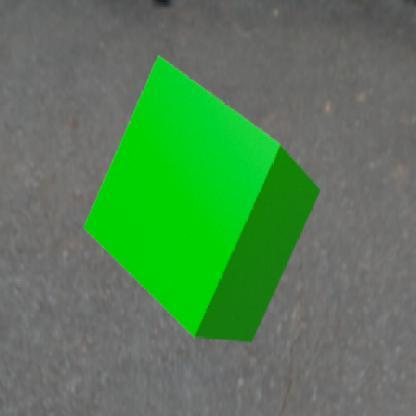cube: (83, 56, 320, 342)
